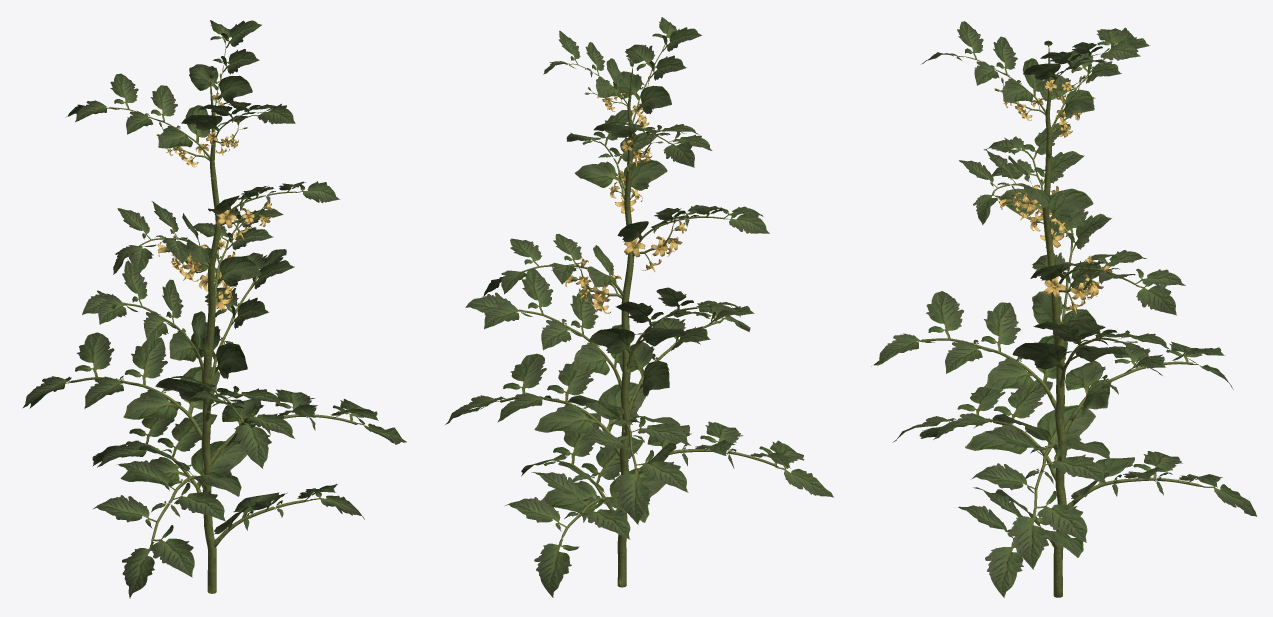
Rendered from tomato2.dae.
3 renders of one model, left to right at view 1: azimuth 30°, elevation 25°; view 2: azimuth 150°, elevation 25°; view 3: azimuth 270°, elevation 25°, orthographic. The views are drawn at different scales.
Parts seen in each view (by area): view 1: Leaf2, Leaf1, Branch1, Blossom1; view 2: Leaf2, Leaf1, Branch1, Blossom1; view 3: Leaf2, Leaf1, Branch1, Blossom1.
Part boxes in pixels (x1=…): Leaf2: x1=22, y1=20, x2=406, y2=598; Leaf1: x1=120, y1=64, x2=278, y2=534; Branch1: x1=70, y1=41, x2=357, y2=593; Blossom1: x1=157, y1=73, x2=272, y2=310; Leaf2: x1=445, y1=17, x2=833, y2=597; Leaf1: x1=534, y1=58, x2=691, y2=522; Branch1: x1=500, y1=44, x2=778, y2=587; Blossom1: x1=564, y1=76, x2=686, y2=313; Leaf2: x1=871, y1=21, x2=1257, y2=598; Leaf1: x1=965, y1=40, x2=1134, y2=557; Branch1: x1=921, y1=46, x2=1206, y2=597; Blossom1: x1=994, y1=75, x2=1112, y2=310.
Size of the model in its own units: 0.8286 by 0.7982 by 1.31.
